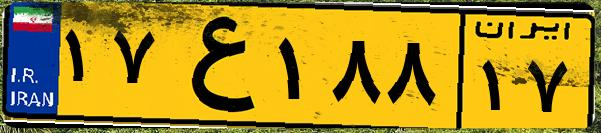1: (270, 28, 330, 110), (57, 26, 110, 100), (475, 38, 525, 113)
7: (525, 38, 570, 115), (110, 28, 158, 98)
8: (385, 28, 445, 110), (330, 28, 385, 110)
ع: (158, 12, 270, 120)
